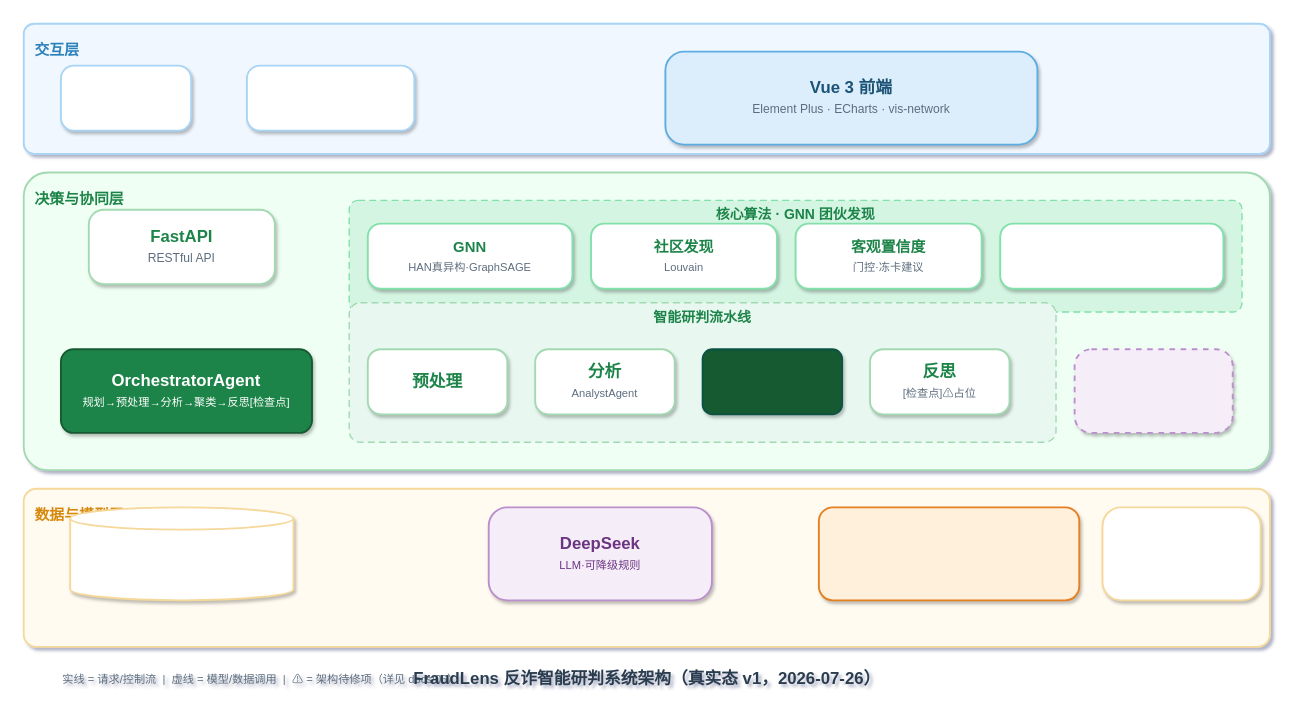
Some shapes in this 1293 by 715 pixel diagram are drawn without their labels. The shapes that lost their labels are listed below. From the top down, each one's centre as x and y in pixels, then its label:
At point (126, 99): "浏览器".
At point (331, 99): "Nginx 反向代理·WebSocket".
At point (1112, 257): "资金回流 闭环检测".
At point (773, 382): "聚类 ClusterAgent→GNN".
At point (1154, 392): "ChatAgent 独立旁路·SSE/WS".
At point (182, 554): "数据存储 MySQL + Redis (Flask-SQLAlchemy⚠)".
At point (949, 554): "BGE 编码器 本地嵌入·可降级hash".
At point (1182, 554): "GNN 权重 / 模型".
